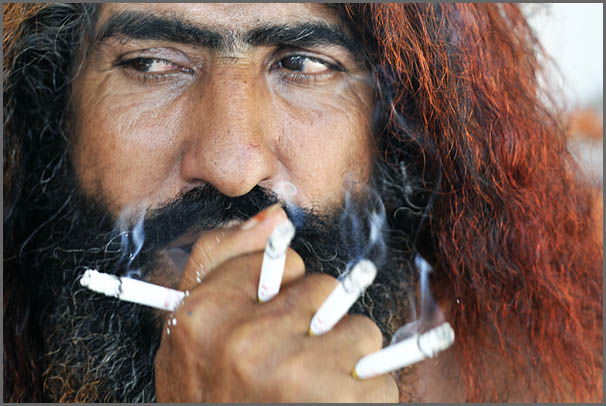cigarette: (346, 317, 461, 381), (72, 266, 195, 323), (313, 253, 375, 341), (254, 220, 294, 307)
